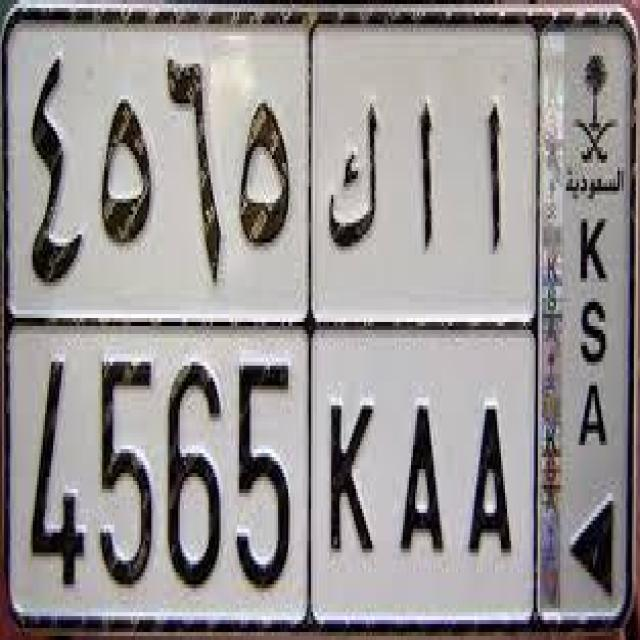license_plate: (1, 4, 638, 634)
